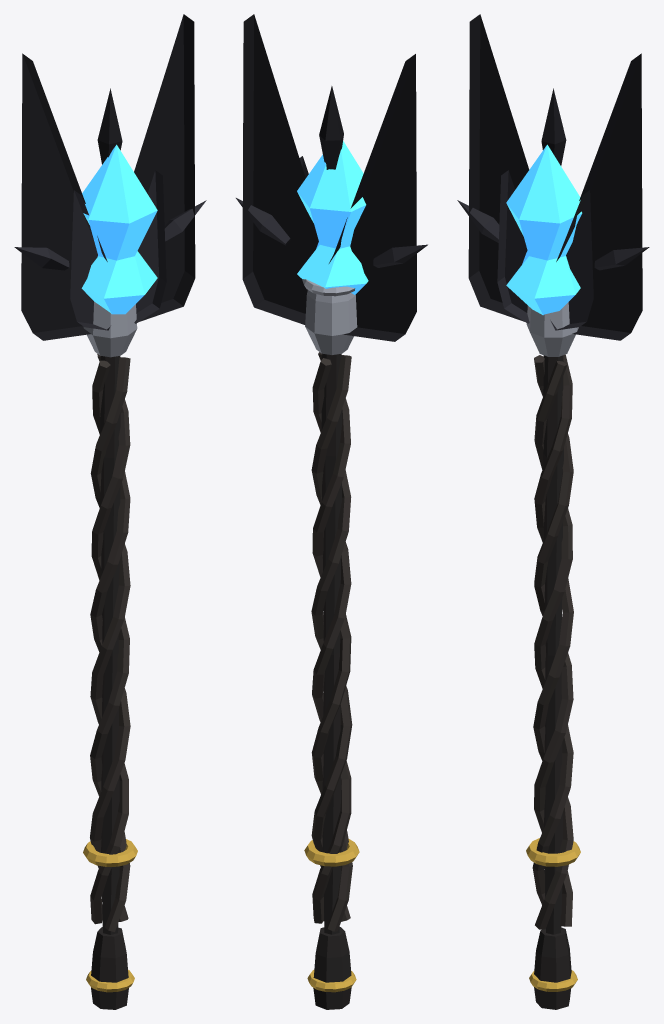
Rendered from staff_darkcrescent.glb.
3 renders of one model, left to right at view 1: azimuth 30°, elevation 25°; view 2: azimuth 150°, elevation 25°; view 3: azimuth 330°, elevation 25°, orthographic.
Visible parts, largest first — view 1: Dc_Blade0, Dc_Blade1, Dc_Core, Dc_Gem_Up, Dc_Shaft1, Dc_Shaft2, Dc_Shaft0, Dc_Gem_Dn, Dc_Inner0, Dc_Inner1, Dc_Butt, Dc_Socket (+5 smaller); view 2: Dc_Blade1, Dc_Blade0, Dc_Core, Dc_Shaft0, Dc_Shaft1, Dc_Shaft2, Dc_Gem_Up, Dc_Socket, Dc_Butt, Dc_Gem_Dn, Dc_Top, Dc_Gold (+4 smaller); view 3: Dc_Blade1, Dc_Blade0, Dc_Core, Dc_Gem_Up, Dc_Shaft2, Dc_Shaft1, Dc_Shaft0, Dc_Gem_Dn, Dc_Inner1, Dc_Inner0, Dc_Butt, Dc_Socket (+5 smaller).
Part boxes in pixels (bbox=[...]): Dc_Blade0: bbox=[21, 53, 90, 340]; Dc_Blade1: bbox=[134, 14, 195, 321]; Dc_Core: bbox=[100, 356, 120, 934]; Dc_Gem_Up: bbox=[82, 144, 157, 260]; Dc_Shaft1: bbox=[90, 357, 130, 924]; Dc_Shaft2: bbox=[90, 354, 130, 931]; Dc_Shaft0: bbox=[90, 360, 130, 921]; Dc_Gem_Dn: bbox=[81, 251, 157, 314]; Dc_Inner0: bbox=[70, 190, 110, 330]; Dc_Inner1: bbox=[134, 170, 166, 323]; Dc_Butt: bbox=[91, 927, 128, 1009]; Dc_Socket: bbox=[83, 302, 137, 357]; Dc_Blade1: bbox=[242, 14, 318, 324]; Dc_Blade0: bbox=[329, 54, 416, 341]; Dc_Core: bbox=[321, 353, 342, 934]; Dc_Shaft0: bbox=[311, 355, 351, 923]; Dc_Shaft1: bbox=[311, 352, 352, 931]; Dc_Shaft2: bbox=[311, 358, 352, 921]; Dc_Gem_Up: bbox=[297, 141, 366, 248]; Dc_Socket: bbox=[305, 290, 357, 354]; Dc_Butt: bbox=[313, 927, 351, 1009]; Dc_Gem_Dn: bbox=[297, 242, 368, 294]; Dc_Top: bbox=[319, 86, 343, 169]; Dc_Gold: bbox=[304, 838, 359, 866]; Dc_Blade1: bbox=[572, 53, 642, 340]; Dc_Blade0: bbox=[468, 14, 529, 321]; Dc_Core: bbox=[543, 355, 563, 934]; Dc_Gem_Up: bbox=[506, 144, 582, 260]; Dc_Shaft2: bbox=[533, 354, 573, 929]; Dc_Shaft1: bbox=[532, 360, 573, 904]; Dc_Shaft0: bbox=[534, 355, 573, 926]; Dc_Gem_Dn: bbox=[506, 251, 580, 315]; Dc_Inner1: bbox=[550, 190, 593, 330]; Dc_Inner0: bbox=[497, 170, 529, 323]; Dc_Butt: bbox=[534, 927, 571, 1009]; Dc_Socket: bbox=[526, 302, 578, 356].
Bounding box in the file's own units: 0.5076 × 2.42 × 0.1881.
